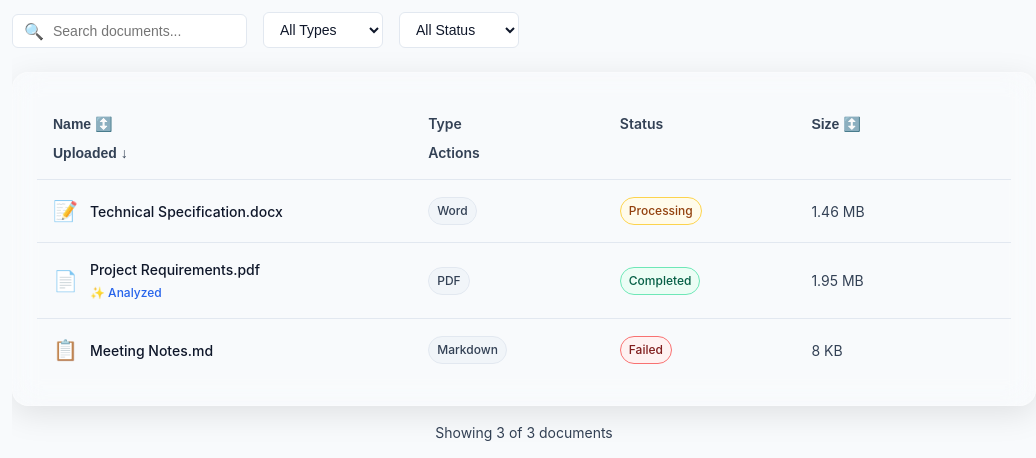
DocumentList › clears filters correctly
// Apply a filter
Type "requirements" into the field with placeholder "Search documents..." at (130, 31), box [12,14,247,48]
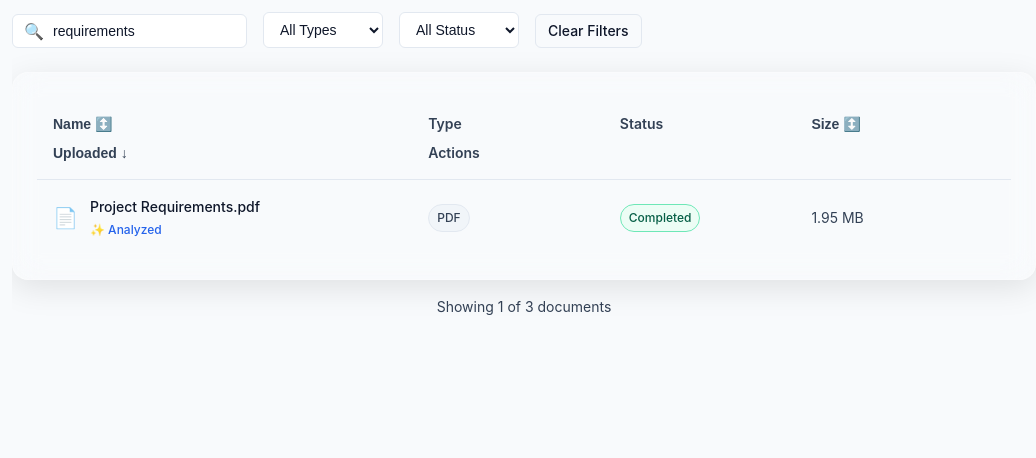
Result: the text "Showing 1 of 3 documents" is shown at [437,298,611,315]
// Clear filters
Click the button "Clear Filters" at (588, 31), box [535,14,642,48]
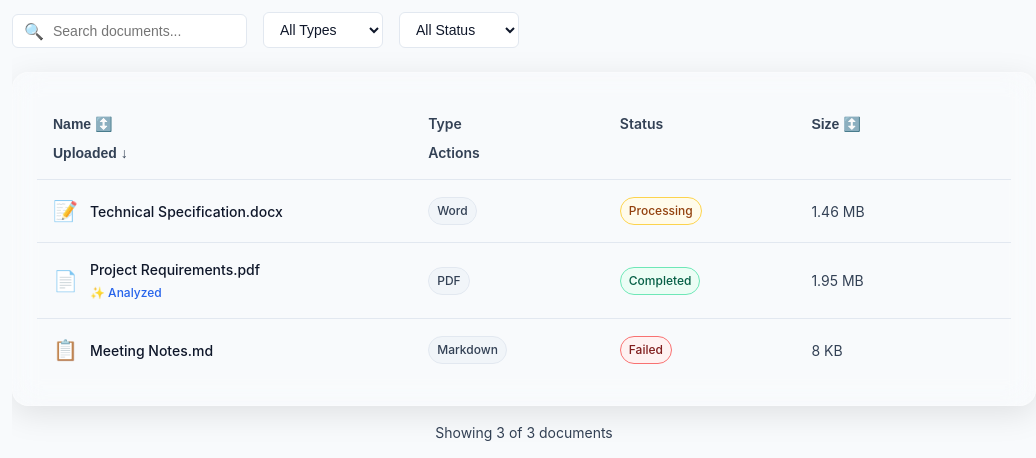
Result: the text "Showing 3 of 3 documents" is shown at [435,424,613,441]
Result: the field with placeholder "Search documents..." is empty at [12,14,247,48]
